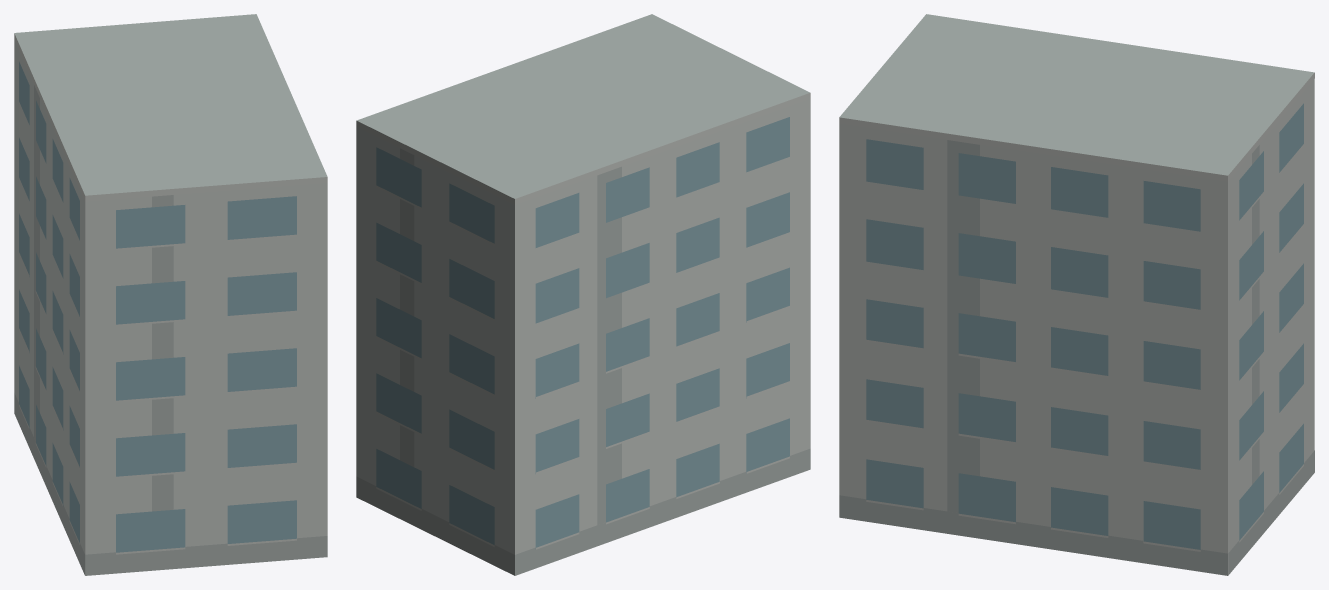
File: residential-586eecea-d6a3-4553-b213-71c685cb1c95.glb
3 renders of one model, left to right at view 1: azimuth 30°, elevation 25°; view 2: azimuth 150°, elevation 25°; view 3: azimuth 270°, elevation 25°, orthographic. The views are drawn at different scales.
Parts seen in each view (by area): view 1: residential-586eecea-d6a3-4553-b213-71c685cb1c95.tmp; view 2: residential-586eecea-d6a3-4553-b213-71c685cb1c95.tmp; view 3: residential-586eecea-d6a3-4553-b213-71c685cb1c95.tmp.
Part boxes in pixels (left/top/right/bottom): residential-586eecea-d6a3-4553-b213-71c685cb1c95.tmp: left=14, top=14, right=327, bottom=575; residential-586eecea-d6a3-4553-b213-71c685cb1c95.tmp: left=356, top=14, right=810, bottom=575; residential-586eecea-d6a3-4553-b213-71c685cb1c95.tmp: left=839, top=14, right=1314, bottom=575.
Bounding box in the file's own units: 13.22 × 15.25 × 16.43.
